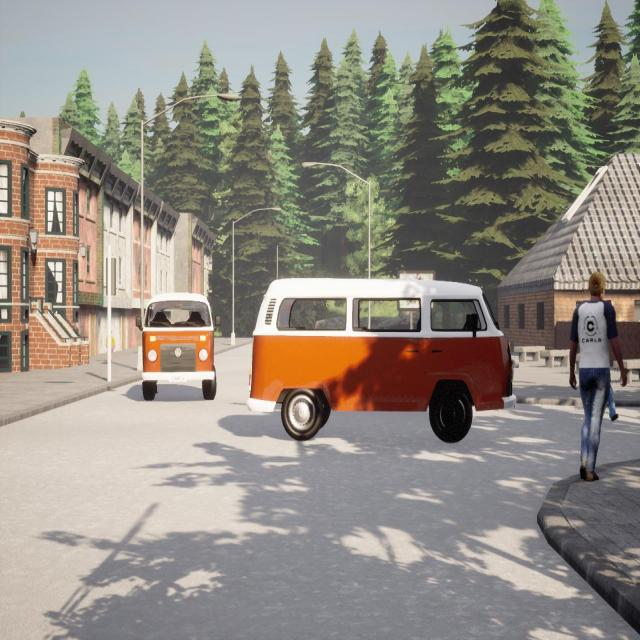Pedestrian: (570, 272, 626, 480), (106, 330, 116, 364)
Vehicle: (247, 279, 515, 442), (136, 292, 218, 400)
traffic_light: (106, 258, 116, 295)
